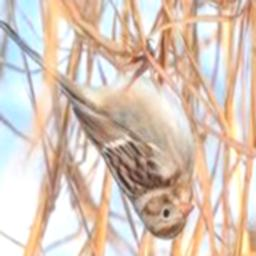Sparrow: (0, 18, 195, 240)
